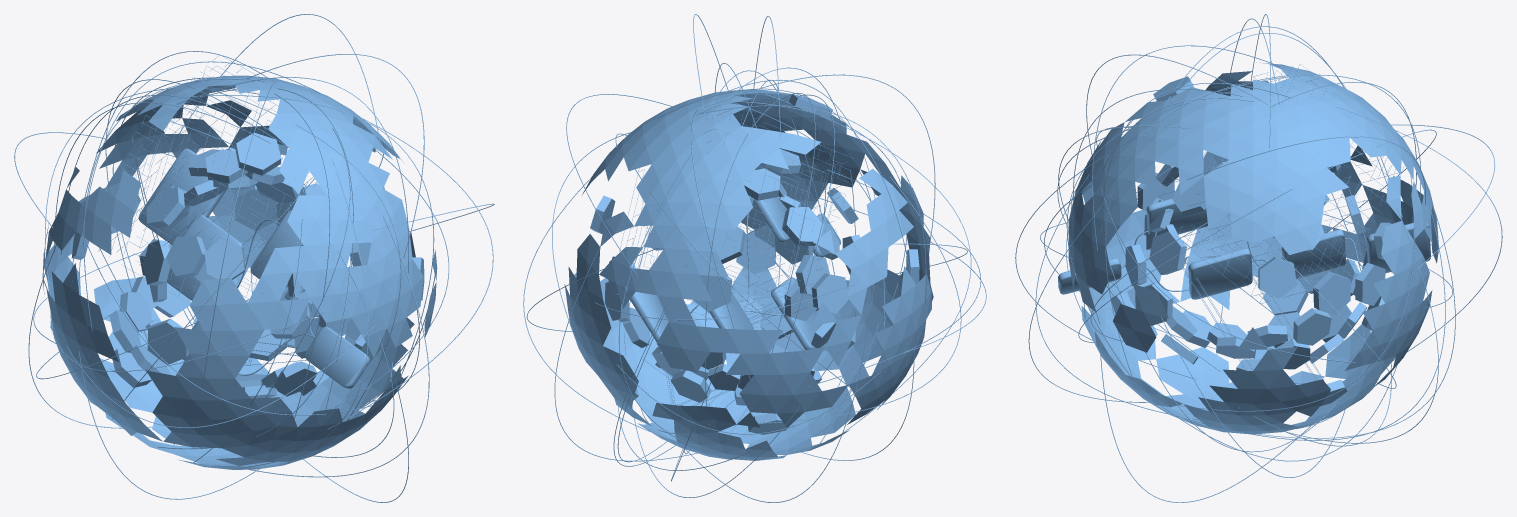
File: chain2.glb
3 views of the same model, side by side, from view 1: azimuth 30°, elevation 25°; view 2: azimuth 150°, elevation 25°; view 3: azimuth 270°, elevation 25° (orthographic). The views are drawn at different scales.
Parts seen in each view (by area): view 1: Chain2, Plane, Chain, Phone; view 2: Chain2, Plane, Chain, Phone; view 3: Chain2, Plane, Chain, Phone.
Part boxes in pixels (x1,y1,x2,y2): Chain2: [14, 14, 494, 502]; Plane: [71, 132, 424, 398]; Chain: [138, 148, 369, 388]; Phone: [98, 55, 325, 365]; Chain2: [523, 14, 986, 502]; Plane: [590, 94, 919, 434]; Chain: [623, 168, 840, 349]; Phone: [619, 104, 853, 405]; Chain2: [1015, 14, 1502, 502]; Plane: [1111, 76, 1391, 406]; Chain: [1058, 198, 1430, 299]; Phone: [1159, 64, 1410, 385].
Bounding box in the file's own units: 3.62 × 3.65 × 3.82.
